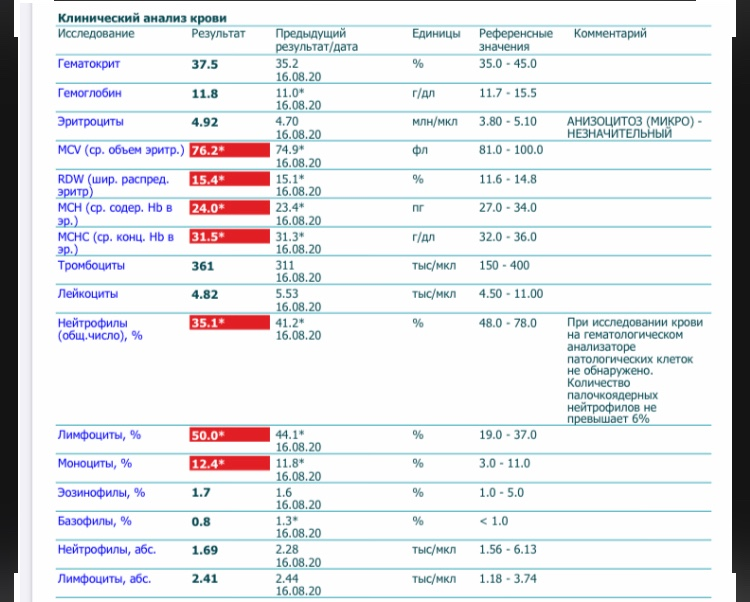column: (565, 25, 703, 597), (56, 25, 184, 597), (274, 25, 359, 597), (478, 25, 554, 597), (190, 25, 246, 597), (411, 25, 461, 597)
